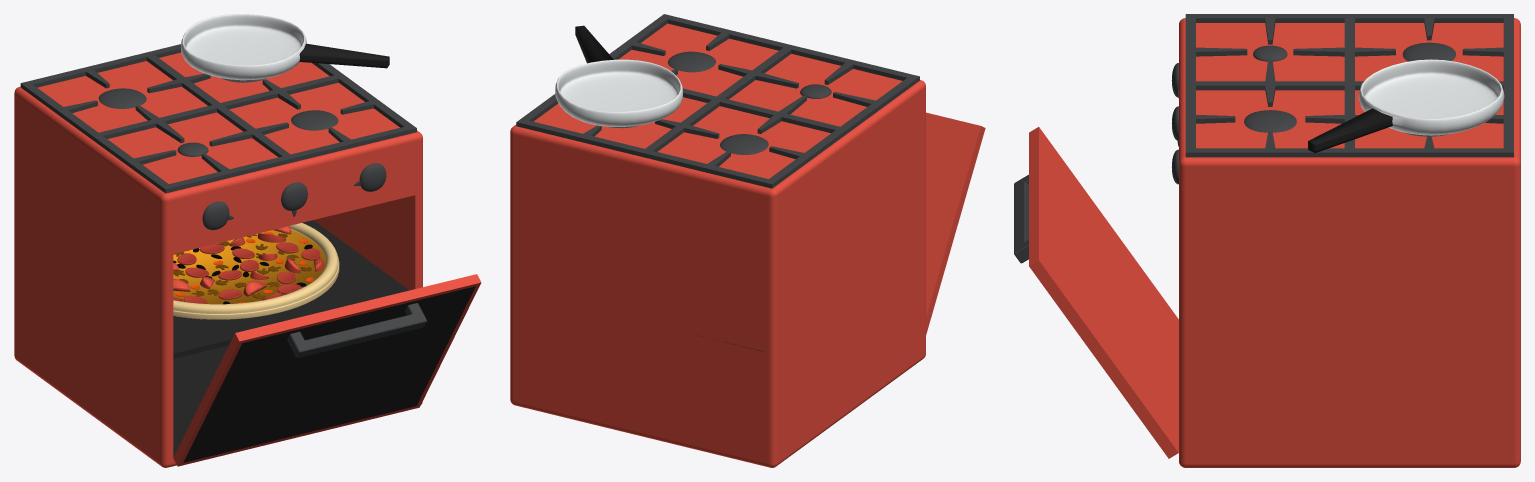
File: Oven.fbx
3 views of the same model, side by side, from view 1: azimuth 30°, elevation 25°; view 2: azimuth 150°, elevation 25°; view 3: azimuth 270°, elevation 25° (orthographic). The views are drawn at different scales.
Visible parts, largest first — view 1: Fırın, Fırın Kapağı, Fırın Ocak Demir, Circle, Tavalar.001, Fırın Ocak, Fırın Düğme.002, Fırın Düğme, Fırın Düğme.001; view 2: Fırın, Fırın Ocak Demir, Tavalar.001, Fırın Kapağı, Fırın Ocak; view 3: Fırın, Fırın Kapağı, Fırın Ocak Demir, Tavalar.001, Fırın Ocak.
Part boxes in pixels (<box>): Fırın: <box>14,52,422,467</box>; Fırın Kapağı: <box>173,274,481,466</box>; Fırın Ocak Demir: <box>20,44,416,193</box>; Circle: <box>173,223,339,319</box>; Tavalar.001: <box>181,14,389,80</box>; Fırın Ocak: <box>98,78,338,156</box>; Fırın Düğme.002: <box>202,201,233,230</box>; Fırın Düğme: <box>281,182,307,216</box>; Fırın Düğme.001: <box>354,163,386,191</box>; Fırın: <box>510,23,925,467</box>; Fırın Ocak Demir: <box>516,14,919,188</box>; Tavalar.001: <box>555,25,682,126</box>; Fırın Kapağı: <box>926,112,985,334</box>; Fırın Ocak: <box>608,51,831,154</box>; Fırın: <box>1179,18,1520,467</box>; Fırın Kapağı: <box>1014,127,1178,458</box>; Fırın Ocak Demir: <box>1185,14,1513,157</box>; Tavalar.001: <box>1308,59,1504,152</box>; Fırın Ocak: <box>1244,42,1455,136</box>.
Size of the model in its own units: 219 by 221 by 296.
